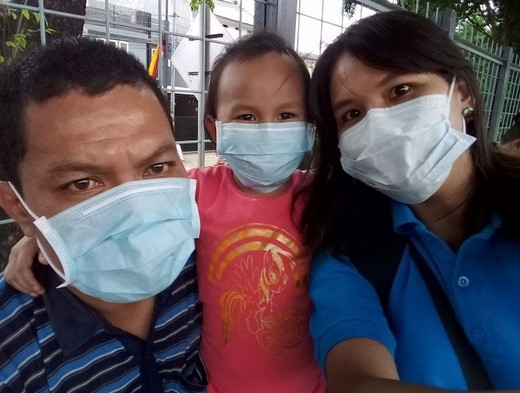face_with_mask: (3, 47, 202, 304), (327, 21, 477, 204), (209, 42, 314, 190)
